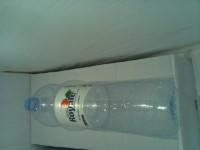BIODEGRADABLE: (15, 5, 175, 80)
